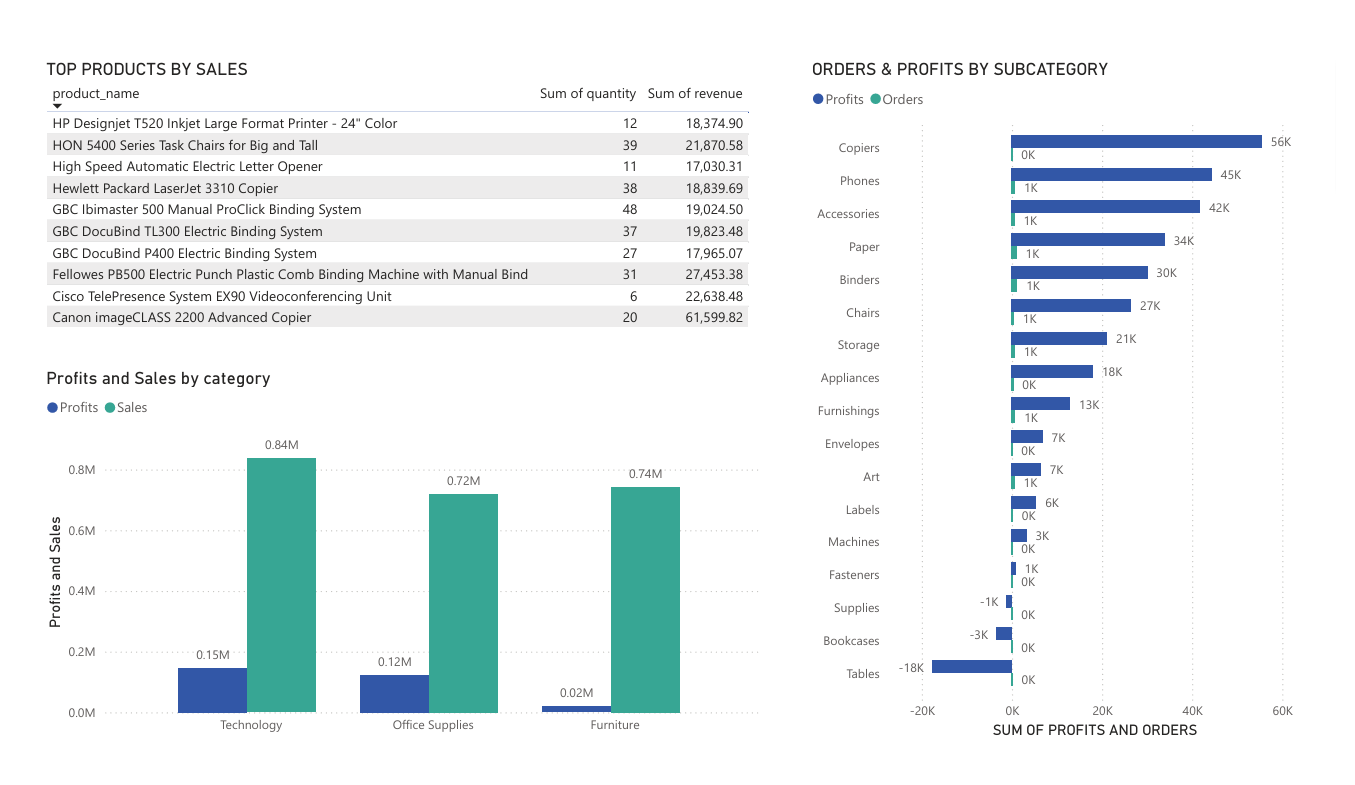

What the dashboard file says about the page in this screenshot:
{"tool":"powerbi","page":{"name":"Dashboard_2","canvas":[1280,720],"ordinal":1},"visuals":[{"type":"clusteredBarChart","title":"ORDERS & PROFITS BY SUBCATEGORY","fields":{"Category":["public v_sub_category_sales_profit.sub_category"],"Y":["Sum(public v_sub_category_sales_profit.profits)","Sum(public v_sub_category_sales_profit.order_count)"]},"box":[764.9,33.3,497.1,666.8],"z":1000},{"type":"clusteredColumnChart","fields":{"Category":["public v_category_sales_profit.category"],"Y":["Sum(public v_category_sales_profit.profits)","Sum(public v_category_sales_profit.sales)"]},"box":[19.3,334.3,705.3,365.8],"z":2000},{"type":"tableEx","title":"TOP PRODUCTS BY SALES","fields":{"Values":["public v_product_revenue_quantity.product_name","Sum(public v_product_revenue_quantity.quantity)","Sum(public v_product_revenue_quantity.revenue)"]},"box":[19.3,33.3,705.3,288.8],"z":3000}]}

Visuals, with their boxes in screenshot pixels (x1, y1, x2, y2), scaled from the page's 1280x720 canvas onto the 1355x785 screenshot:
"ORDERS & PROFITS BY SUBCATEGORY" clusteredBarChart: [left=810, top=36, right=1336, bottom=763]
clusteredColumnChart - public v_category_sales_profit.category x Sum(public v_category_sales_profit.profits): [left=20, top=364, right=767, bottom=763]
"TOP PRODUCTS BY SALES" tableEx: [left=20, top=36, right=767, bottom=351]
